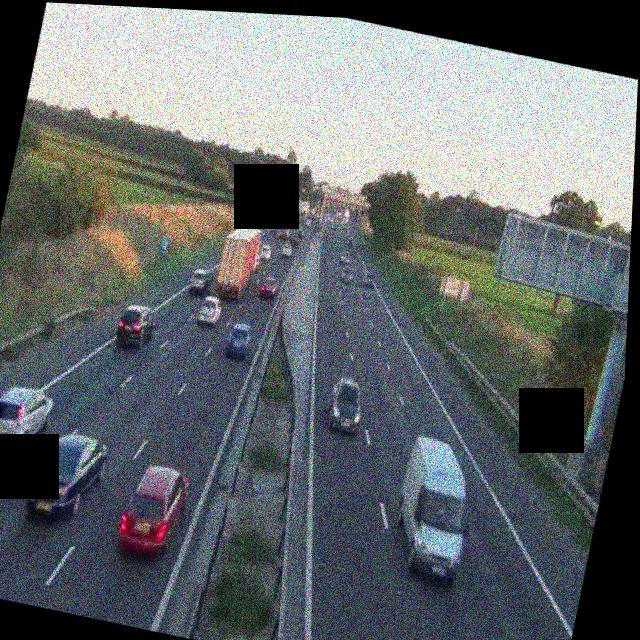car: (22, 424, 112, 530), (114, 460, 192, 562), (0, 380, 55, 456), (323, 374, 368, 436), (114, 300, 158, 353), (224, 322, 255, 361), (196, 294, 223, 328), (187, 266, 212, 297), (259, 276, 279, 301), (339, 264, 354, 284), (257, 244, 271, 263), (363, 271, 376, 288), (280, 243, 292, 259), (341, 250, 353, 266), (292, 230, 303, 246), (345, 235, 356, 249), (271, 225, 282, 238)
truck: (384, 433, 484, 588), (211, 223, 263, 304)
